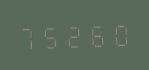five: (40, 21, 61, 50)
seven: (18, 21, 39, 51)
six: (84, 19, 105, 48)
two: (62, 20, 83, 49)
zero: (106, 18, 127, 48)
